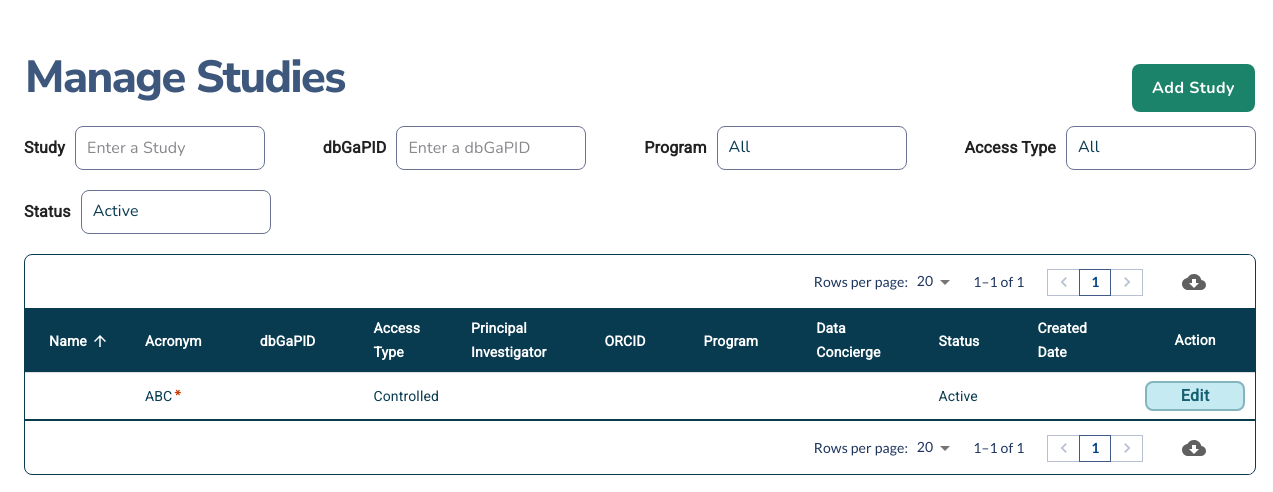
Implementation Requirements › should render asterisk and correct tooltip for pending dbGaPID condition
The width and height of the screenshot is (1273, 492).
expect the text "ABC" is shown: met, box left=145, top=388, right=172, bottom=404
Hover over the text with test id "asterisk-ABC" at (178,396), box left=174, top=385, right=182, bottom=407
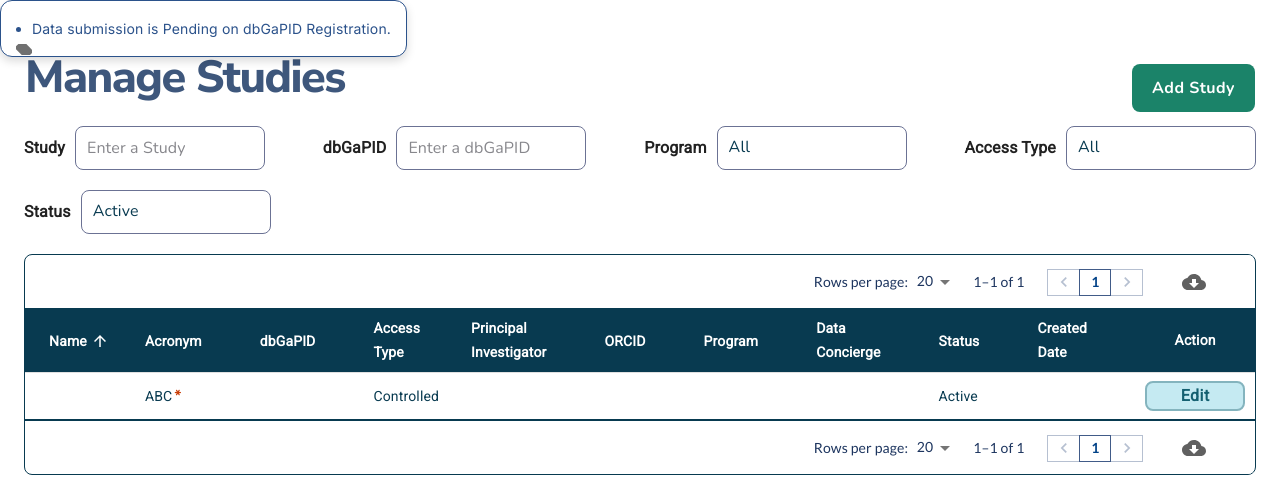
expect the list item "Data submission is Pending on dbGaPID Registration." is shown: met, box left=32, top=19, right=391, bottom=38
